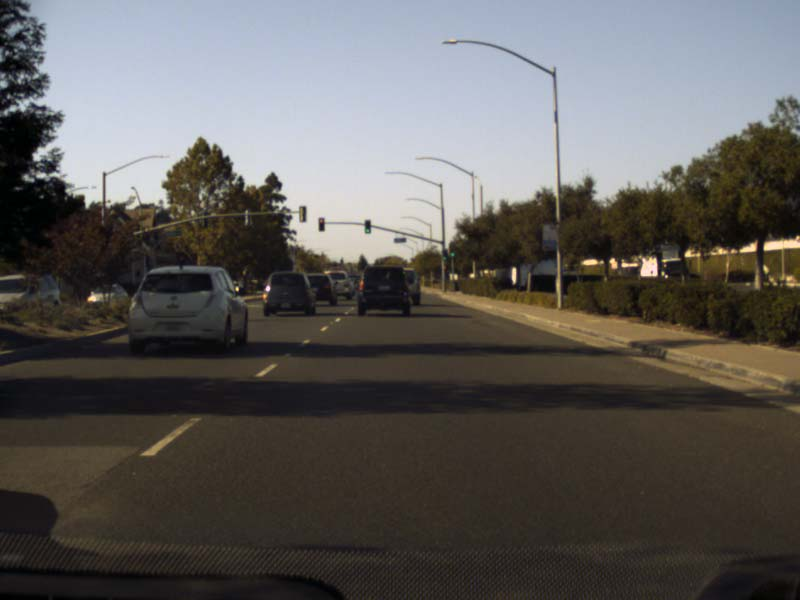Green: (364, 220, 370, 233), (442, 250, 447, 260), (450, 250, 455, 257)
Red: (318, 218, 324, 231)
